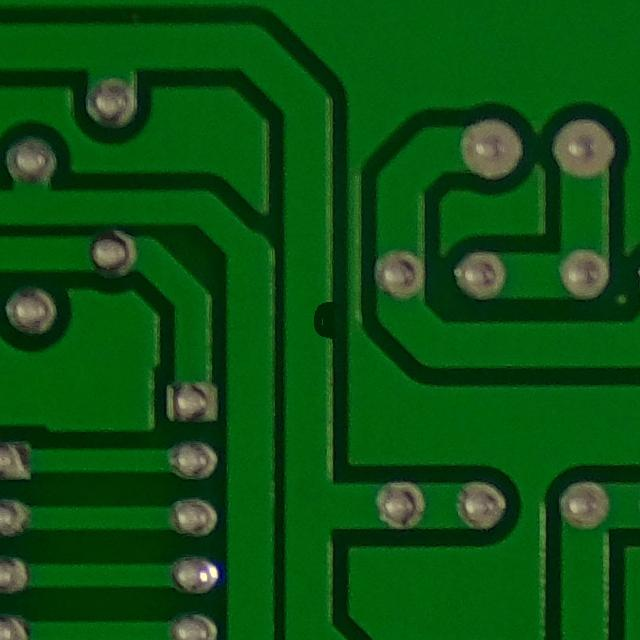mouse_bite: (292, 281, 348, 359)
